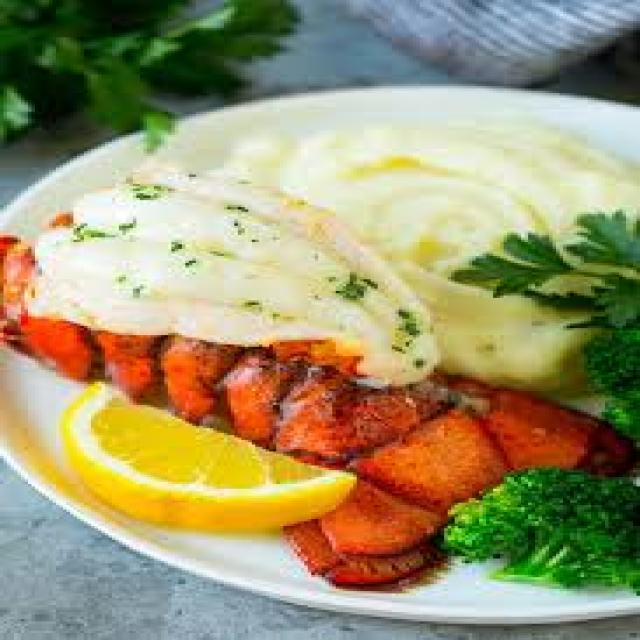Lemon: (70, 423, 328, 524)
Lobster Tail: (0, 254, 468, 416)
